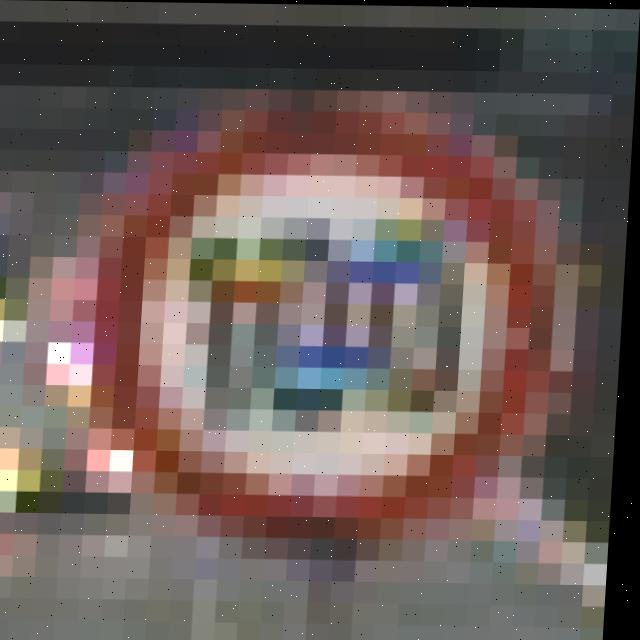speed_limit_100: (58, 87, 635, 564)
